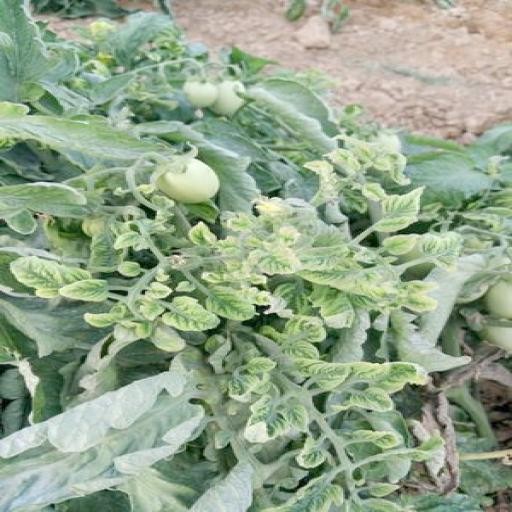Yellow Leaf Curl Virus: (176, 194, 460, 310), (5, 256, 77, 302), (372, 186, 434, 234), (239, 393, 291, 445), (365, 358, 435, 394), (278, 316, 332, 360), (156, 300, 222, 334), (249, 242, 311, 276), (204, 286, 260, 322), (420, 230, 462, 272), (56, 276, 110, 304), (304, 362, 354, 387), (348, 428, 398, 449), (382, 231, 420, 257), (246, 356, 278, 374)
